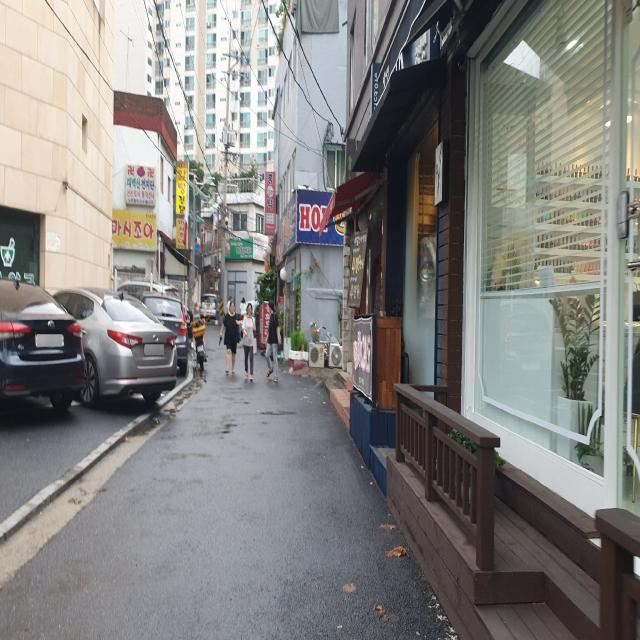car: (51, 287, 178, 409), (0, 277, 86, 417), (140, 291, 188, 376), (200, 293, 220, 324)
motorbike: (191, 318, 207, 372)
